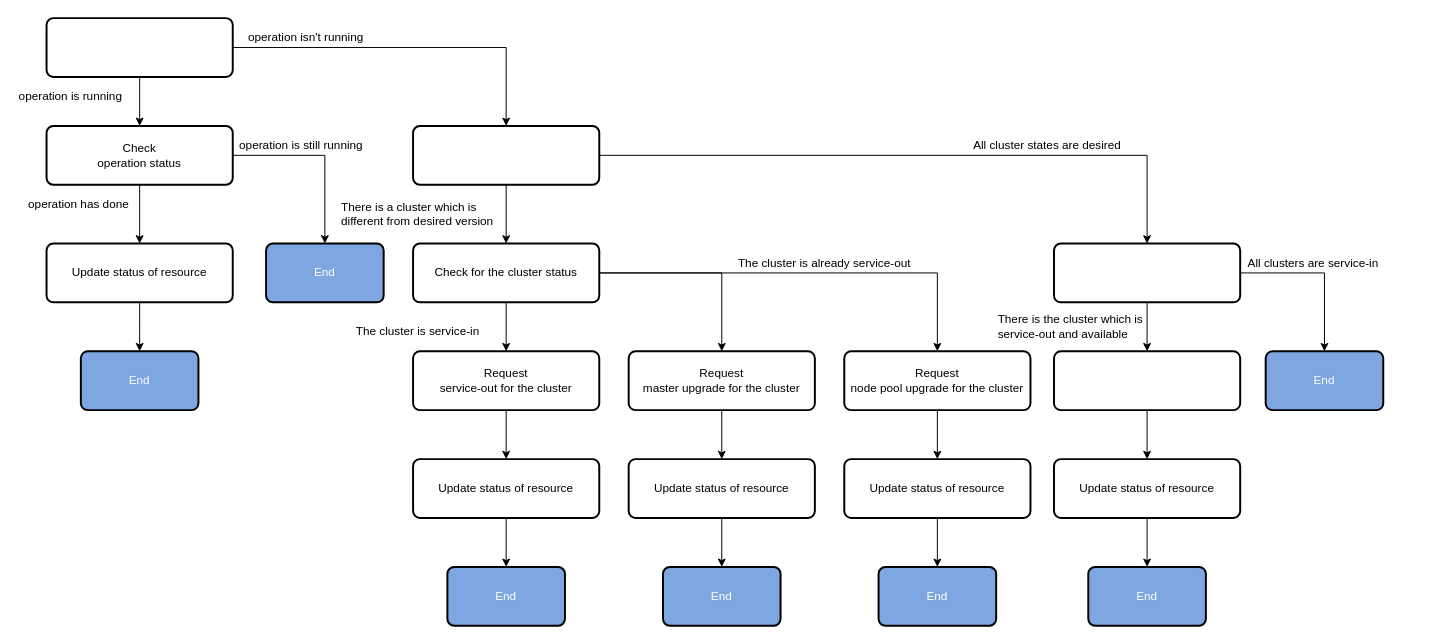
Some shapes in this 1439 by 643 pixel diagram are drawn without their labels. Here are the shapes that lost their labels. From the top down, the centre of each, then its label:
At (x=139, y=47): "Check whether operation is running".
At (x=506, y=154): "Check cluster version difference".
At (x=1147, y=272): "Check for a cluster status".
At (x=1147, y=380): "Request service-in for the cluster".
